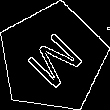M_SE: (19, 24, 86, 92)
